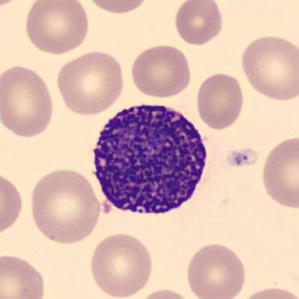Basophil: (83, 95, 215, 224)
Platelets: (225, 147, 258, 169)
RBC: (26, 166, 103, 246), (54, 48, 127, 117), (87, 230, 156, 299), (0, 63, 57, 140), (238, 32, 298, 103), (22, 0, 92, 56), (183, 240, 248, 299), (128, 42, 194, 100), (194, 71, 246, 131), (259, 133, 298, 211), (171, 0, 225, 46), (0, 251, 48, 299), (0, 168, 25, 238), (81, 0, 151, 15), (238, 284, 298, 299), (134, 286, 194, 299), (0, 0, 27, 9)
